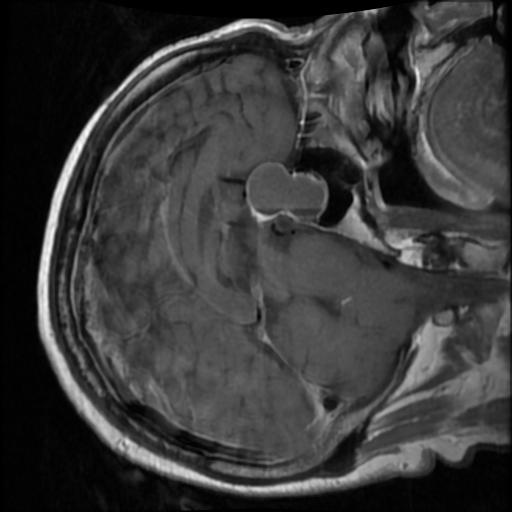pituitary tumour: (243, 161, 326, 223)
